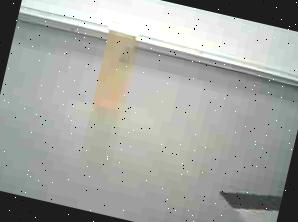Bottle A: (86, 15, 152, 124)
